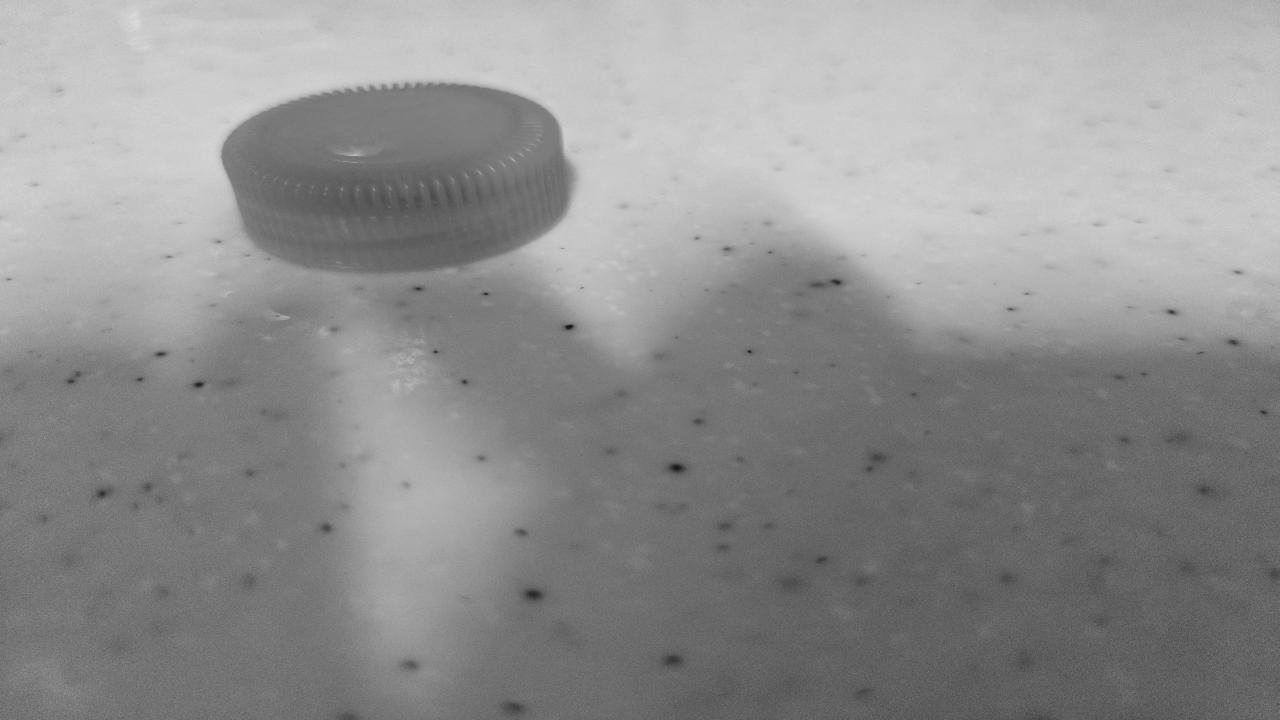bottle_cap: (229, 84, 565, 272)
